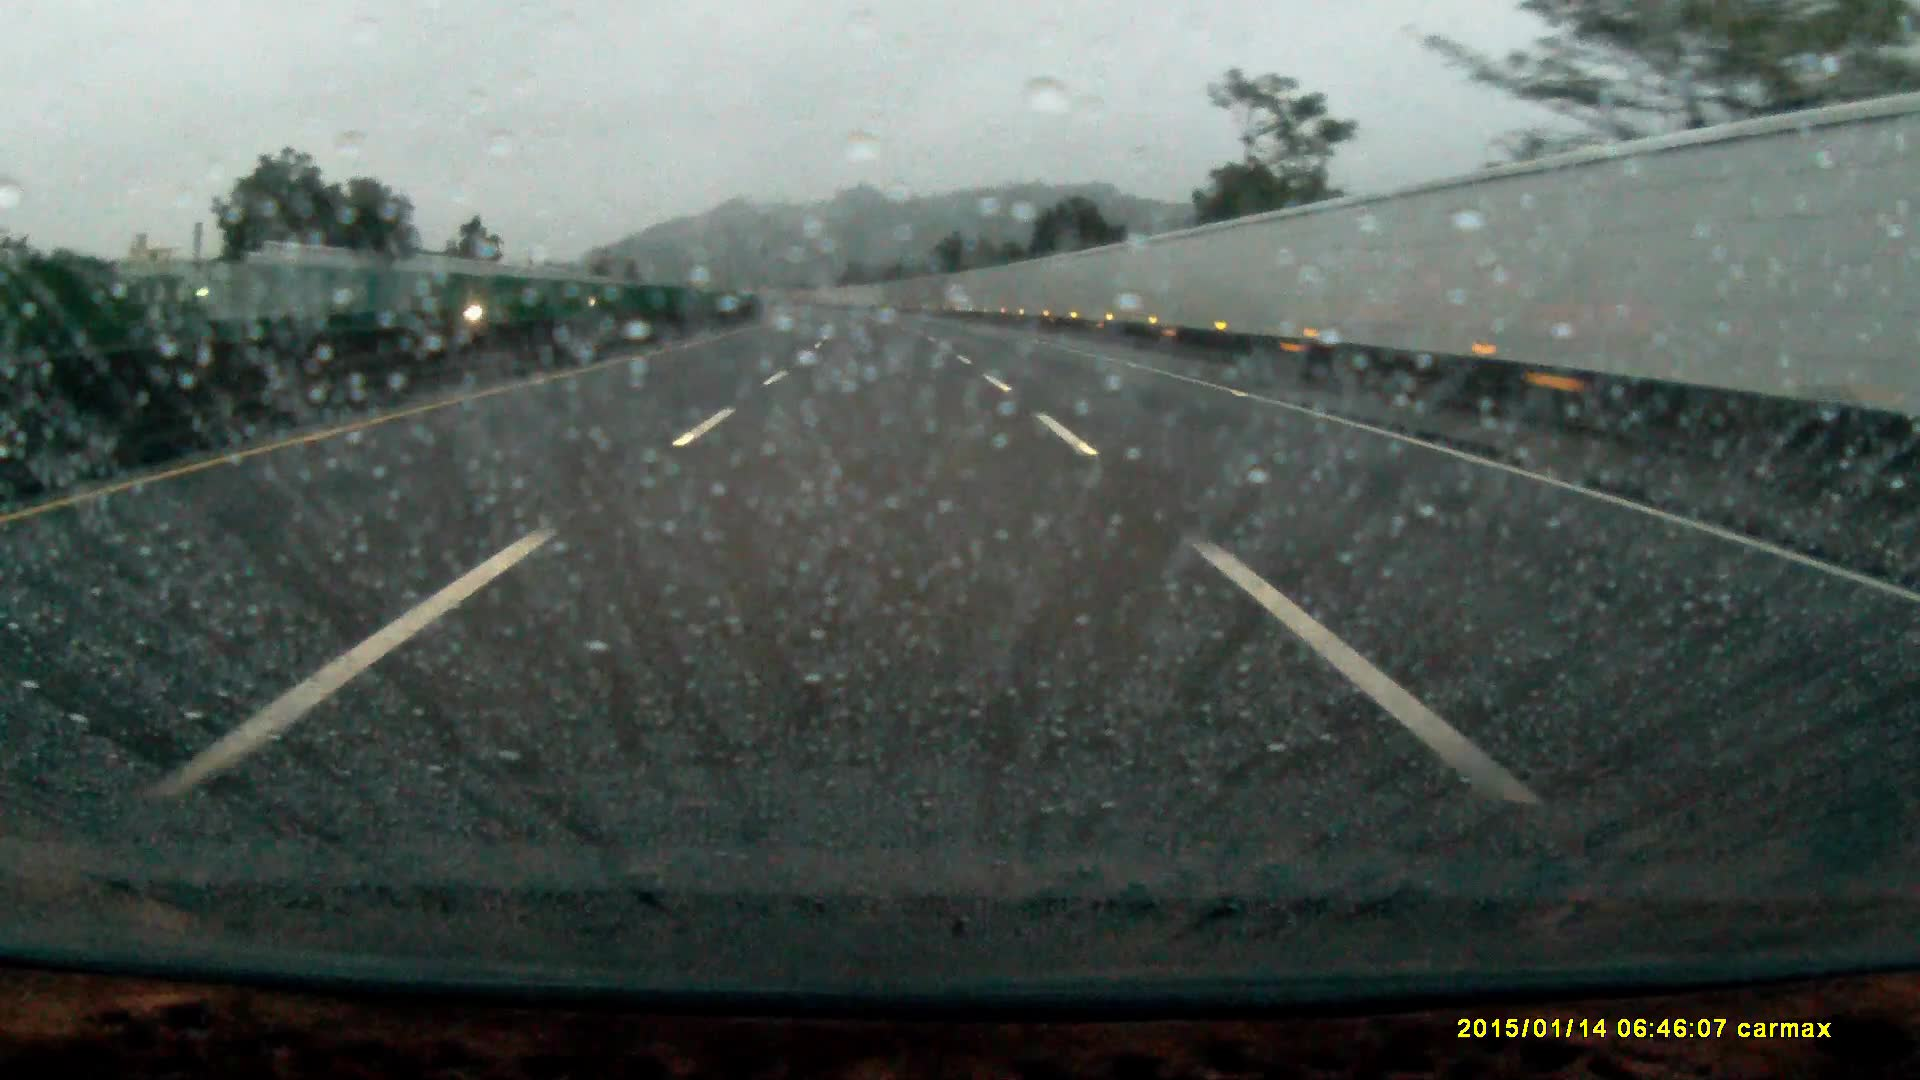vehicle: (444, 293, 514, 328)
